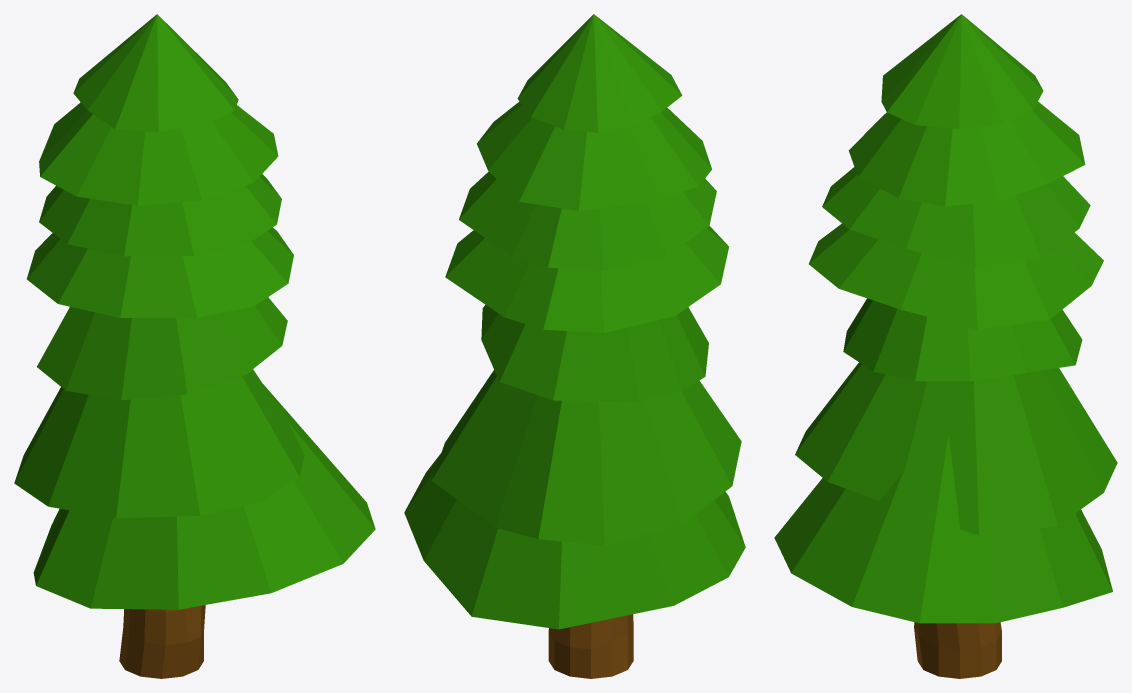
File: Spruce_2.fbx
The picture shows the model from 3 angles, left to right: view 1: azimuth 30°, elevation 25°; view 2: azimuth 150°, elevation 25°; view 3: azimuth 270°, elevation 25°; orthographic projection.
Parts seen in each view (by area): view 1: Pine; view 2: Pine; view 3: Pine.
Part boxes in pixels (x1,y1,x2,y2): Pine: (14, 14, 375, 678); Pine: (404, 14, 745, 678); Pine: (774, 14, 1117, 678).
Bounding box in the file's own units: 11.02 × 21.52 × 10.38.
